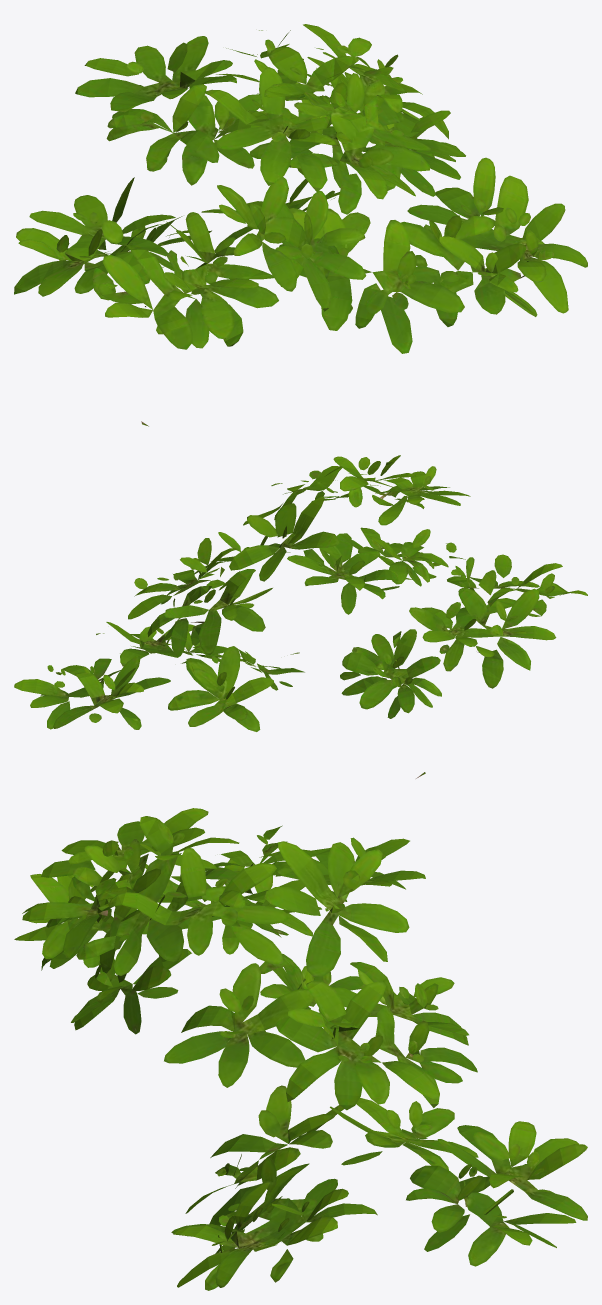
File: leaf_au.glb
3 renders of one model, top to bottom at view 1: azimuth 30°, elevation 25°; view 2: azimuth 150°, elevation 25°; view 3: azimuth 270°, elevation 25°, orthographic. The views are drawn at different scales.
Visible parts, largest first — view 1: geometry_0; view 2: geometry_0; view 3: geometry_0.
Boxes of the visible parts, x1,y1,x2,y2 form: geometry_0: [14, 24, 587, 426]; geometry_0: [14, 455, 587, 778]; geometry_0: [14, 808, 587, 1290].
Bounding box in the file's own units: 0.364 × 0.2245 × 0.3078.
1 material, 1 textured.
